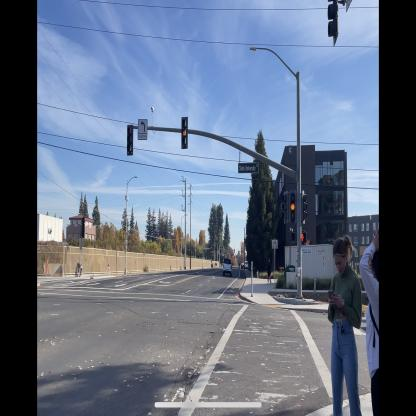left-red: (126, 124, 134, 157)
yellow: (288, 188, 298, 225), (181, 116, 188, 152)
